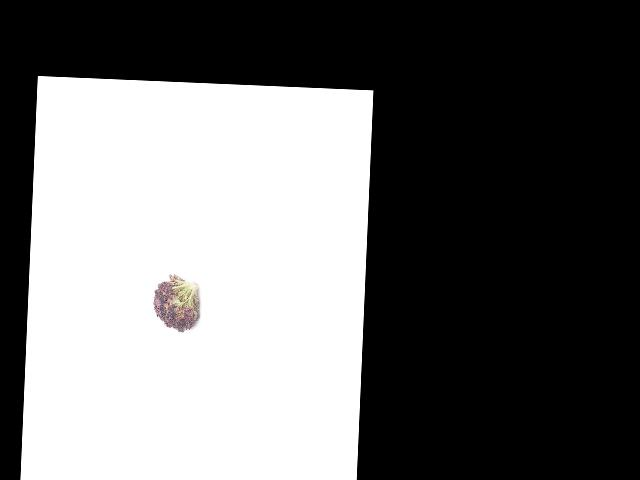lettuce: (150, 276, 204, 335)
